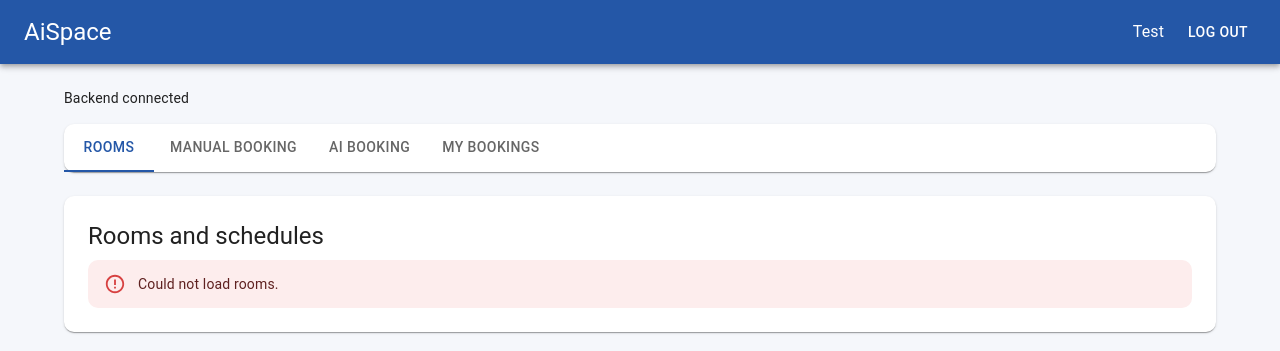
Scenario: App health state › shows a room-loading failure on manual booking
This screenshot has width=1280, height=351.
Click the tab "Manual booking" at (234, 148), box [154,124,313,172]
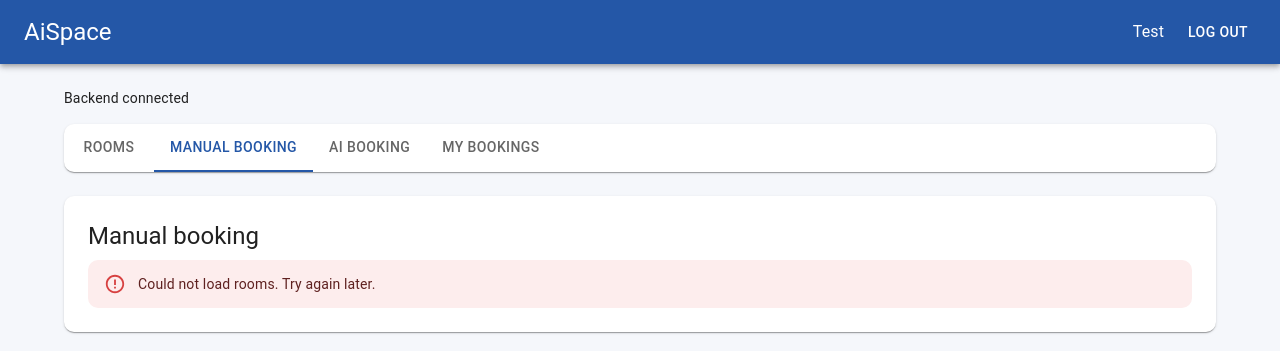
Now the text "Could not load rooms. Try again later." is shown, box [138,276,376,292]
